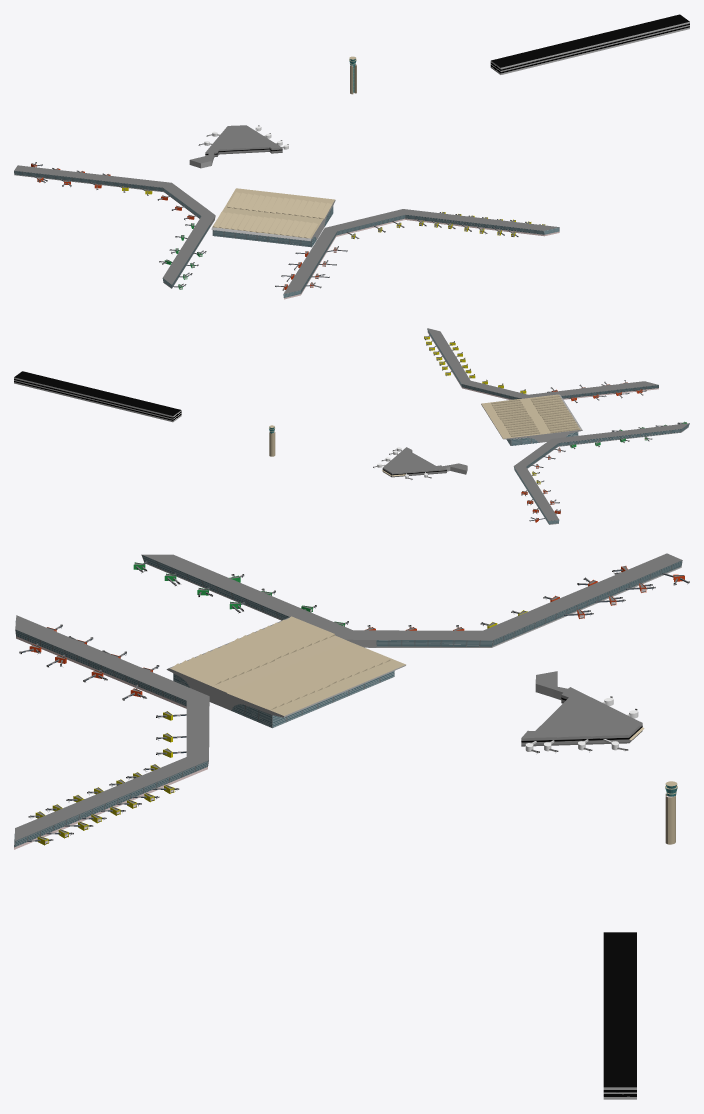
The model's file is geofsvidp2.glb.
3 renders of one model, top to bottom at view 1: azimuth 30°, elevation 25°; view 2: azimuth 150°, elevation 25°; view 3: azimuth 270°, elevation 25°, orthographic. The views are drawn at different scales.
Visible parts, largest first — view 1: Plane, Cube.002, Plane.017, Cube.003, Cube; view 2: Plane, Cube.002, Cube.003, Plane.017, Cube; view 3: Plane, Plane.017, Cube.003, Cube.002, Cube.
Part boxes in pixels (x1,y1,x2,y2): Plane: (14,125,559,299); Cube.002: (490,14,689,74); Plane.017: (213,192,331,238); Cube.003: (211,188,335,247); Cube: (31,125,545,291); Plane: (382,328,689,524); Cube.002: (14,371,181,422); Cube.003: (481,394,582,445); Plane.017: (491,395,579,436); Cube: (373,335,686,522); Plane: (14,553,682,849); Plane.017: (172,616,390,710); Cube.003: (166,617,405,728); Cube.002: (603,932,636,1099); Cube: (20,561,689,845).
Size of the model in its own units: 1747 by 88.12 by 927.
Materials: 6 (1 with a texture image).
